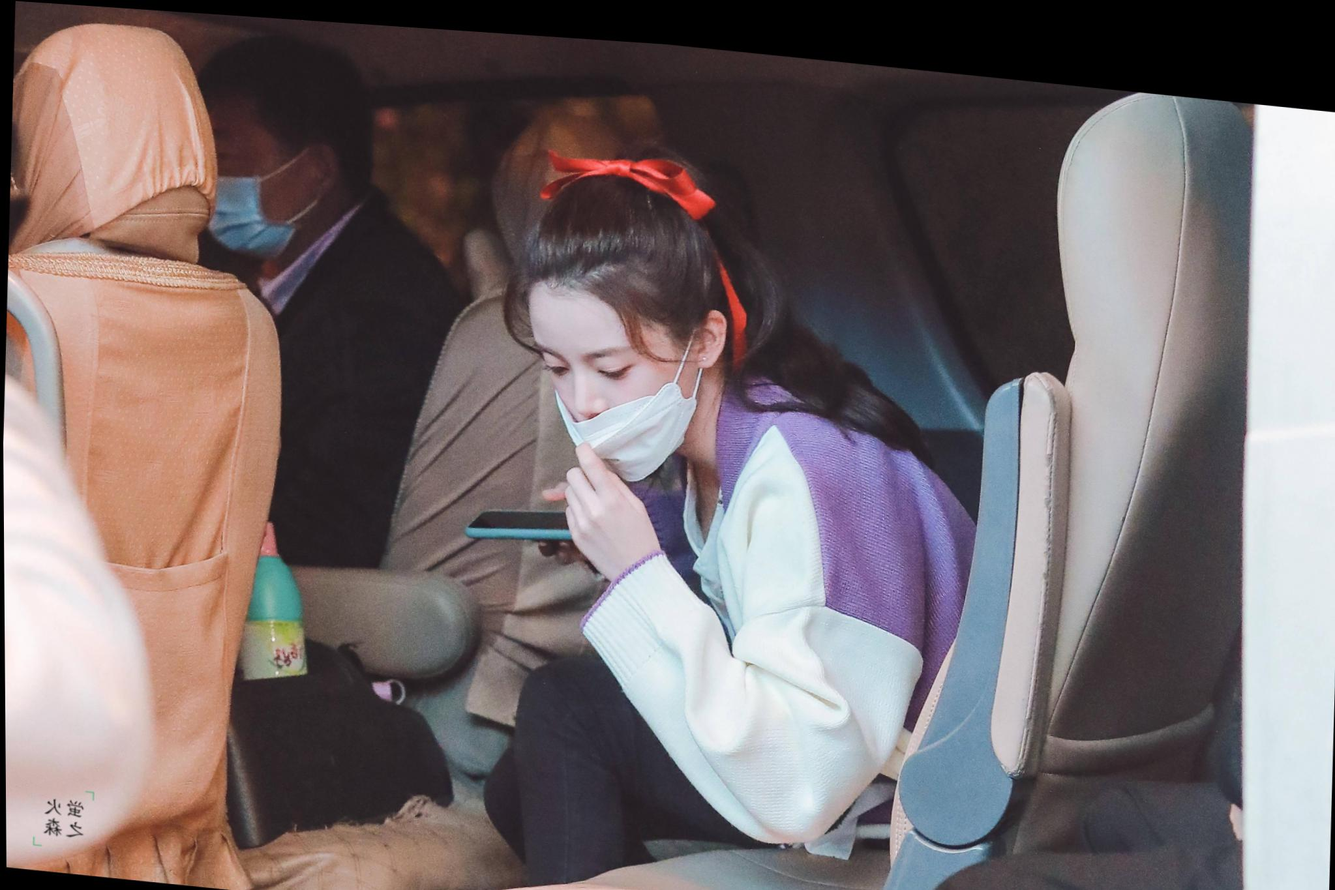OK: (190, 102, 309, 255)
WRONG: (532, 310, 688, 485)
